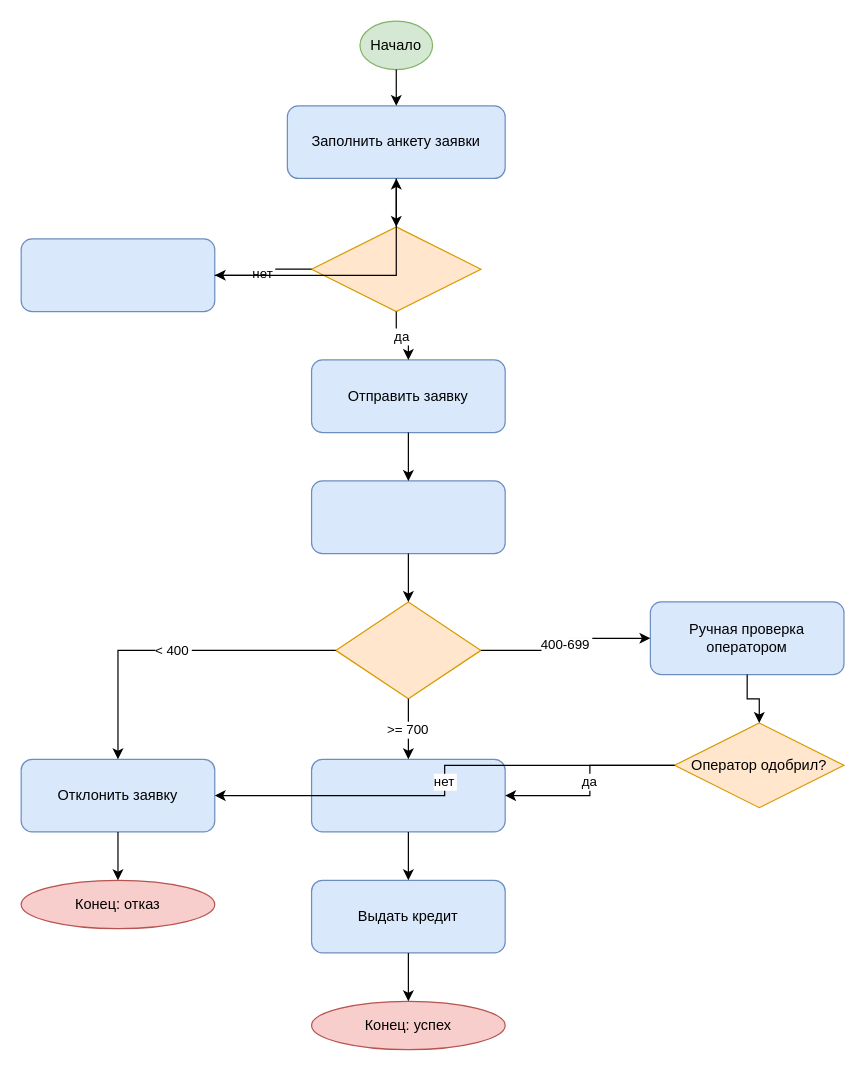
Image size: 865x1071. Some labels were removed from this diagram. The box of each missing label's shape, as (x1, y1, x2, y2) in pixels:
Балл?: (335, 601, 481, 699)
Валидна ли анкета?: (310, 226, 481, 312)
Подписать договор (SMS-код): (310, 758, 505, 832)
Показать ошибки валидации: (20, 238, 215, 312)
Рассчитать скоринговый балл: (310, 480, 505, 554)
